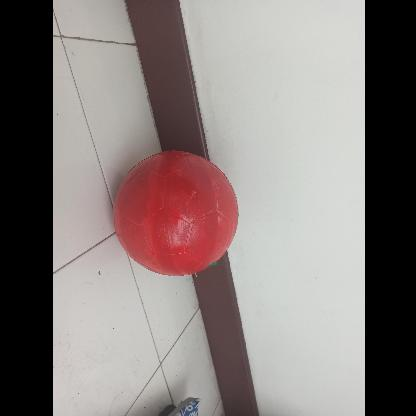red_ball: (112, 147, 238, 274)
